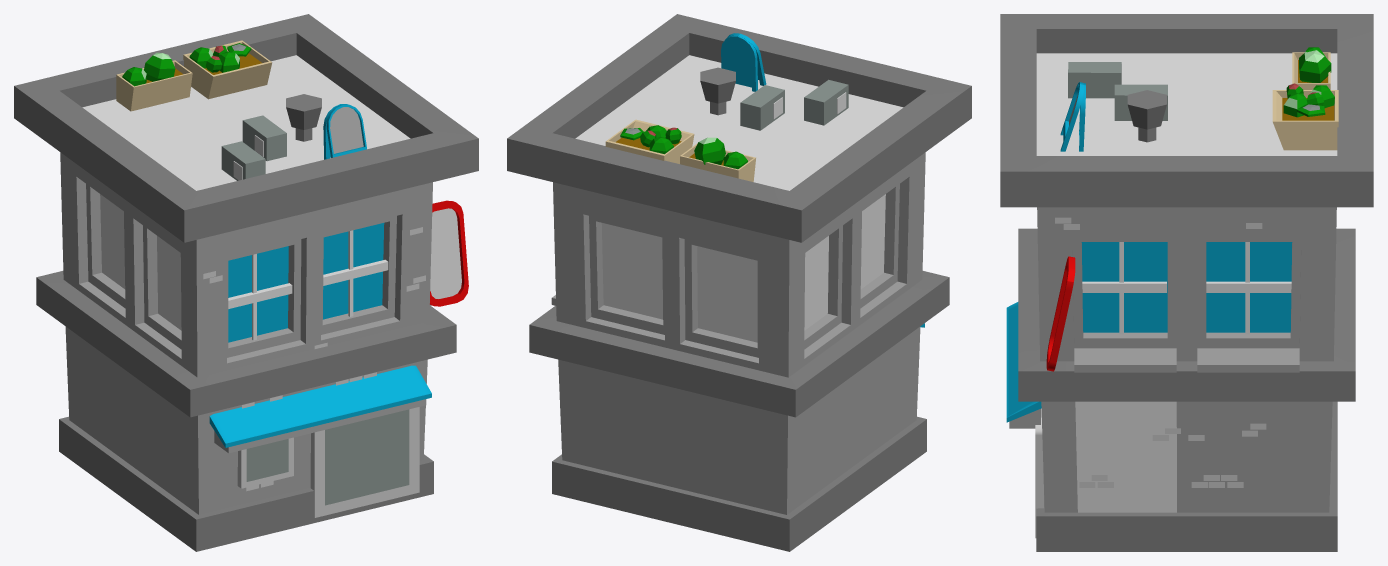
The model's file is building_02.fbx.
3 renders of one model, left to right at view 1: azimuth 30°, elevation 25°; view 2: azimuth 150°, elevation 25°; view 3: azimuth 270°, elevation 25°, orthographic. The views are drawn at different scales.
Parts seen in each view (by area): view 1: pCube176; view 2: pCube176; view 3: pCube176.
Part boxes in pixels (x1=…): pCube176: x1=14, y1=14, x2=478, y2=551; pCube176: x1=507, y1=14, x2=971, y2=551; pCube176: x1=1000, y1=14, x2=1373, y2=551.
Bounding box in the file's own units: 12.3 × 14.91 × 11.73.
